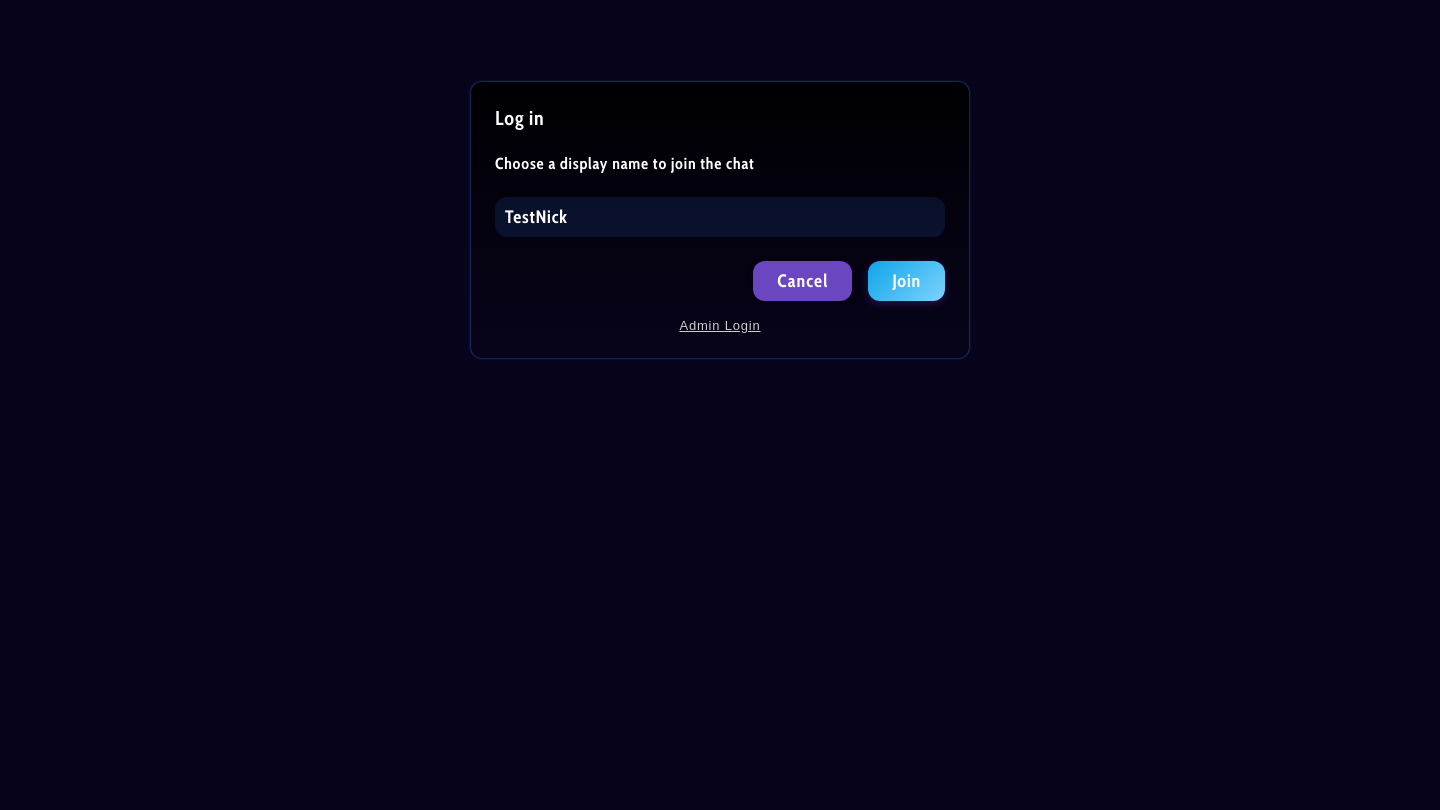
Scenario: LoginModal › shows error when trying to admin login with empty credentials
Click the button "Admin Login" at (720, 326), box [674,317,767,334]
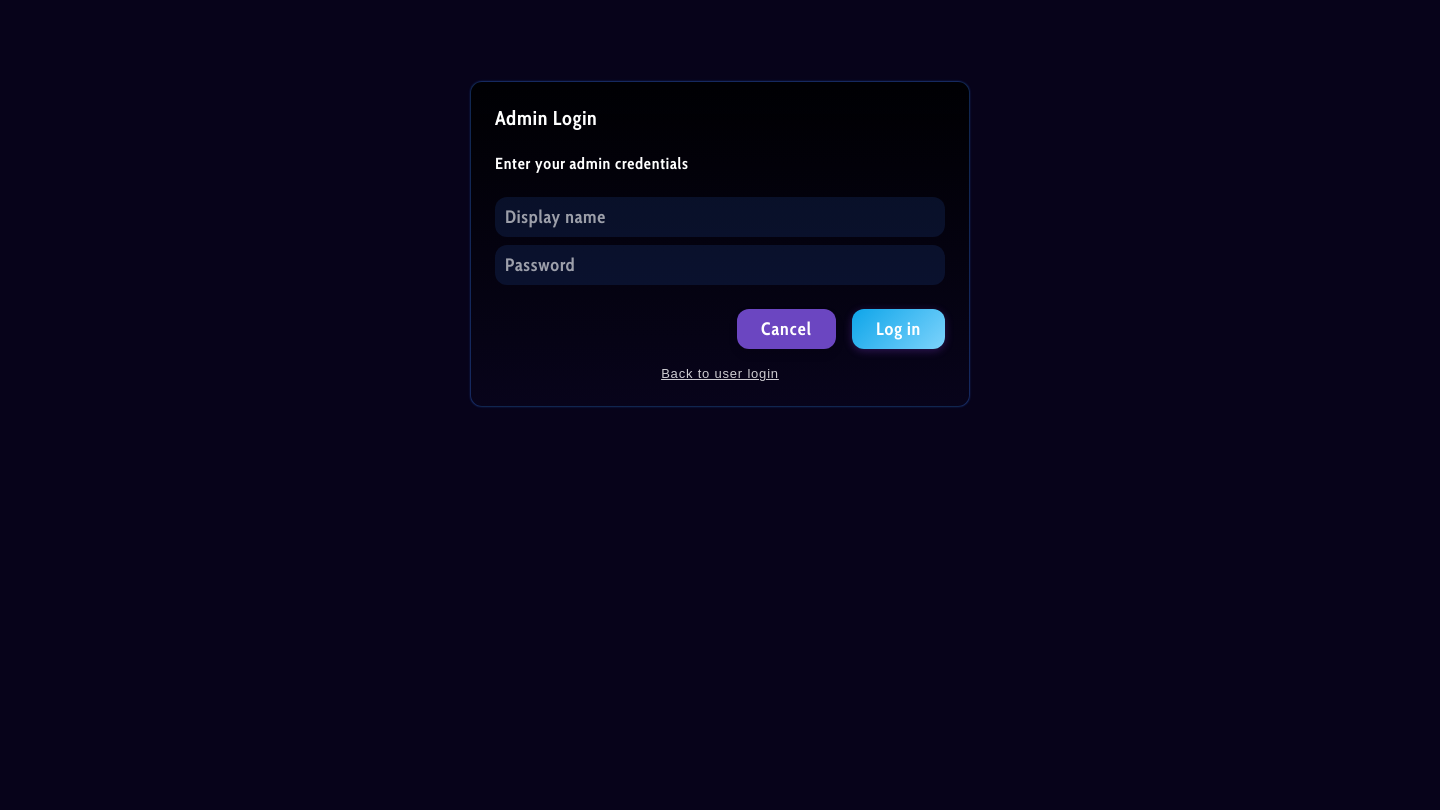
Click the button "Log in" at (898, 329), box [852,309,945,349]
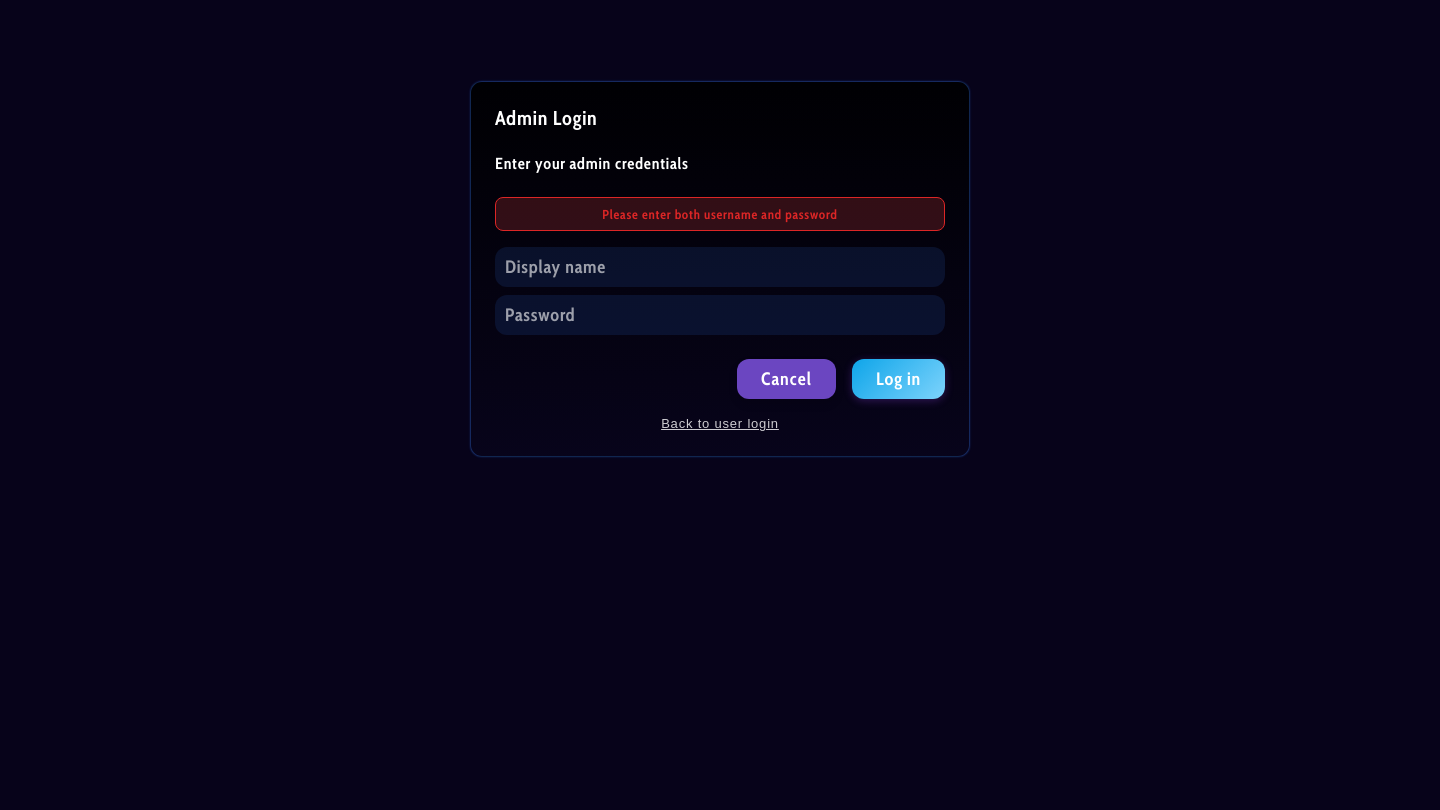
expect the text "Please enter both username and password" is shown: met, box [495,197,945,231]
